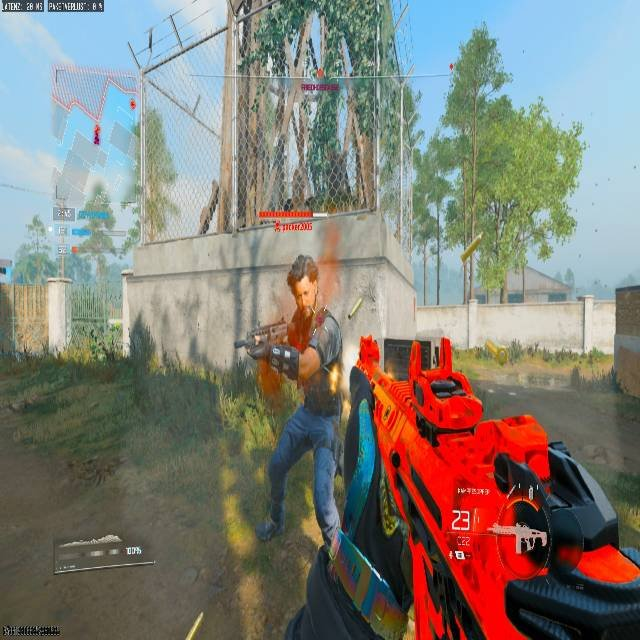head: (286, 254, 319, 308)
player: (241, 253, 345, 542)
